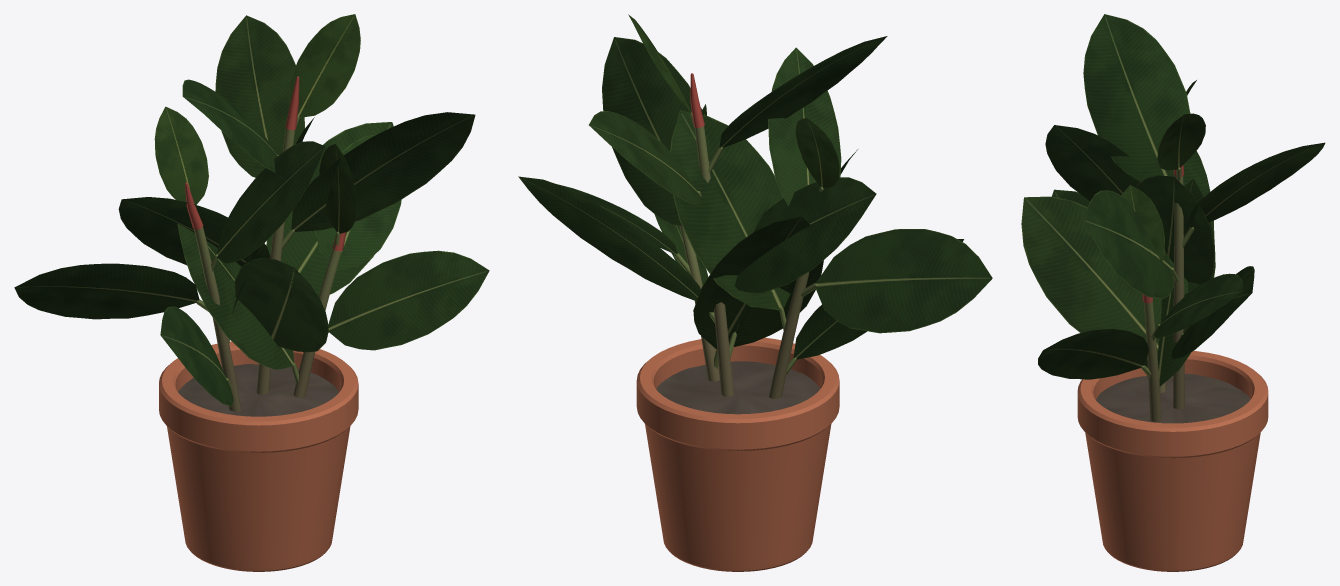
3 views of the same model, side by side, from view 1: azimuth 30°, elevation 25°; view 2: azimuth 150°, elevation 25°; view 3: azimuth 270°, elevation 25° (orthographic). The views are drawn at different scales.
Visible parts, largest first — view 1: leaves, pot, stems, soil; view 2: leaves, pot, stems, soil; view 3: leaves, pot, soil, stems.
Part boxes in pixels (box(x1,y1,x2,y2)): leaves: box(14, 14, 489, 406); pot: box(159, 341, 358, 571); stems: box(185, 76, 346, 412); soil: box(178, 364, 339, 416); leaves: box(518, 14, 992, 359); pot: box(636, 337, 839, 571); stems: box(674, 73, 838, 398); soil: box(656, 361, 819, 414); leaves: box(1021, 14, 1325, 386); pot: box(1077, 351, 1268, 571); soil: box(1096, 373, 1250, 423); stems: box(1141, 165, 1194, 422).
Size of the model in its own units: 0.3227 by 0.3642 by 0.2103.
Materials: 4 (1 with a texture image).
